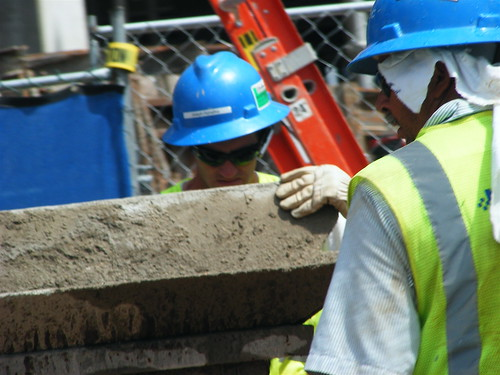person hardhat: (317, 1, 500, 375), (164, 48, 318, 189)
